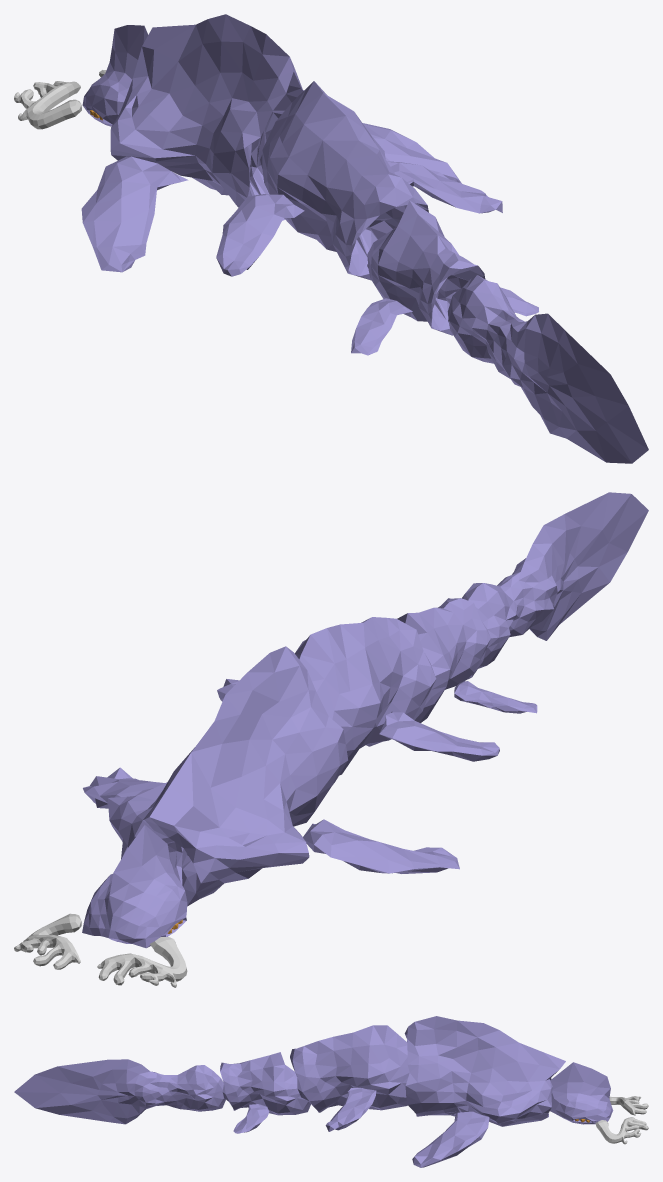
The model's file is WHALE_01_export.fbx.
3 renders of one model, top to bottom at view 1: azimuth 30°, elevation 25°; view 2: azimuth 150°, elevation 25°; view 3: azimuth 270°, elevation 25°, orthographic. The views are drawn at different scales.
Parts seen in each view (by area): view 1: Body_shoulders, Body_lower, Tailfin, Fin pair_01, Body_start tail, Fin pair_02, Head, Fin pair_03, Antlers; view 2: Body_shoulders, Tailfin, Body_lower, Head, Fin pair_01, Body_start tail, Antlers, Fin pair_02, Fin pair_03; view 3: Body_shoulders, Tailfin, Body_lower, Body_start tail, Head, Fin pair_01, Antlers, Fin pair_02, Fin pair_03.
Boxes of the visible parts, left/top/right/bottom form: Body_shoulders: left=110, top=14, right=303, bottom=220; Body_lower: left=260, top=81, right=428, bottom=280; Tailfin: left=447, top=275, right=648, bottom=463; Fin pair_01: left=81, top=123, right=461, bottom=272; Body_start tail: left=367, top=200, right=485, bottom=335; Fin pair_02: left=216, top=161, right=502, bottom=276; Head: left=82, top=25, right=147, bottom=126; Fin pair_03: left=351, top=287, right=538, bottom=355; Antlers: left=14, top=70, right=106, bottom=129; Body_shoulders: left=107, top=646, right=348, bottom=906; Tailfin: left=462, top=492, right=648, bottom=668; Body_lower: left=295, top=617, right=436, bottom=775; Head: left=82, top=825, right=187, bottom=948; Fin pair_01: left=83, top=767, right=459, bottom=873; Body_start tail: left=397, top=598, right=490, bottom=722; Antlers: left=14, top=913, right=187, bottom=987; Fin pair_02: left=217, top=679, right=499, bottom=761; Fin pair_03: left=454, top=681, right=537, bottom=713; Body_shoulders: left=404, top=1016, right=565, bottom=1126; Tailfin: left=14, top=1059, right=225, bottom=1124; Body_lower: left=290, top=1025, right=409, bottom=1112; Body_start tail: left=220, top=1052, right=310, bottom=1115; Head: left=550, top=1062, right=613, bottom=1124; Fin pair_01: left=412, top=1111, right=489, bottom=1167; Antlers: left=595, top=1096, right=648, bottom=1144; Fin pair_02: left=325, top=1088, right=376, bottom=1131; Fin pair_03: left=233, top=1104, right=269, bottom=1133.
Bounding box in the file's own units: 9.34 × 4.91 × 25.72.
